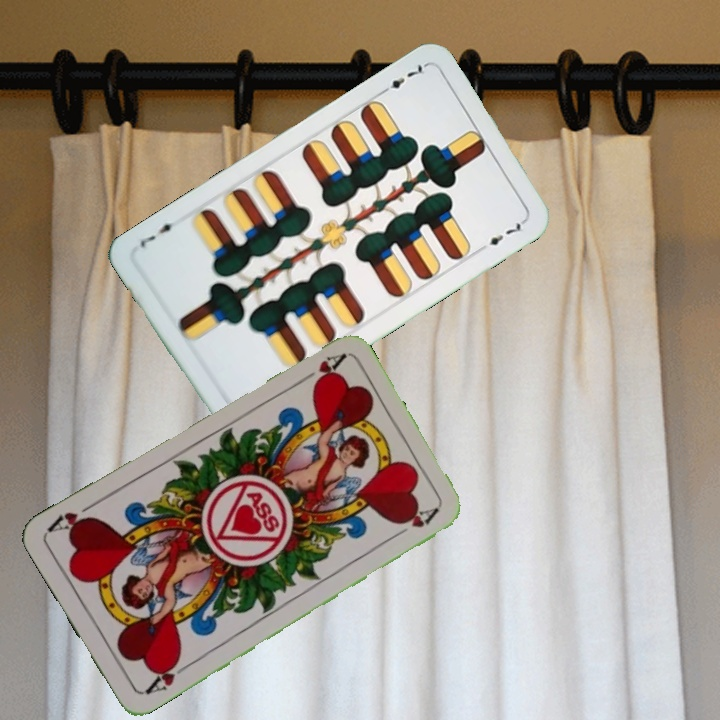E7: (375, 60, 429, 98)
HA: (140, 654, 193, 698), (293, 349, 347, 389)
